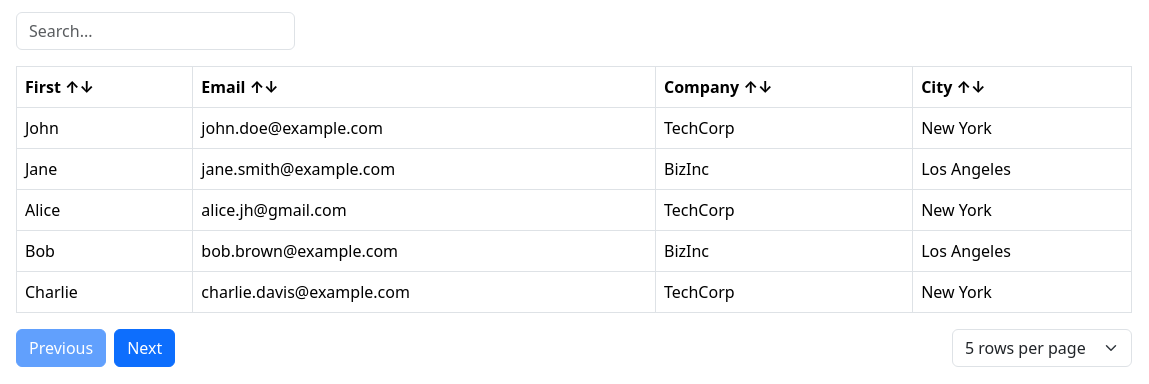
Test: UserTable › Previous button test on pagination
This screenshot has width=1149, height=384.
Click the button "Next".
click(145, 348)  # box [114,329,175,367]
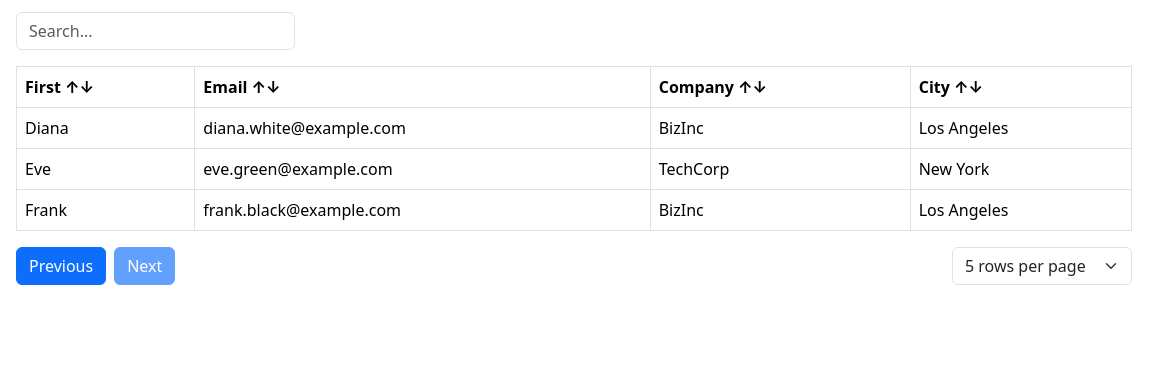
Click the button "Previous".
click(61, 266)  # box [16,247,106,285]
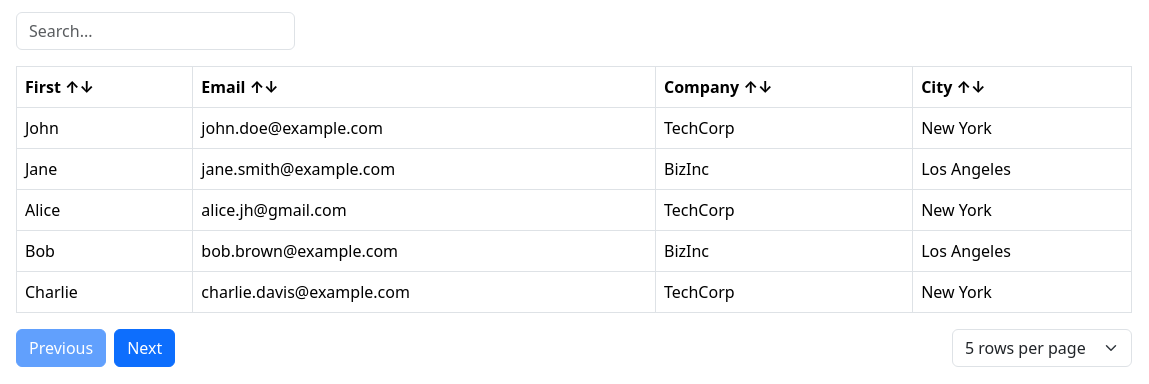
Now the text "John" is shown, box [16,108,193,148]
